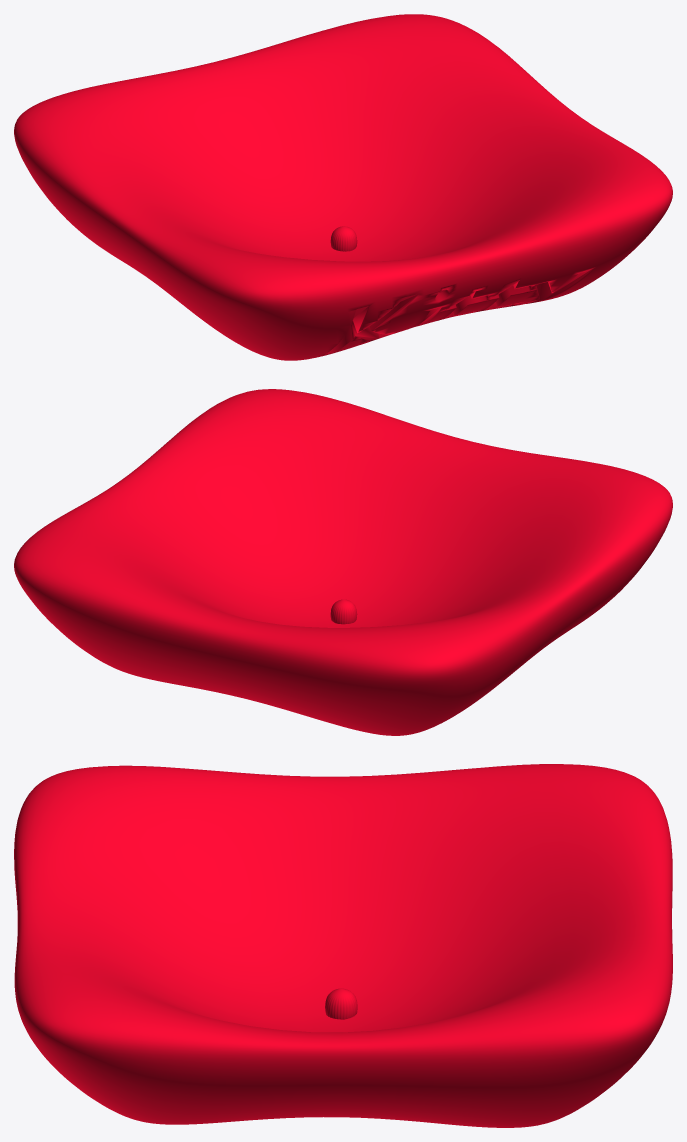
File: bowlfacing up.fbx
The picture shows the model from 3 angles, top to bottom: view 1: azimuth 30°, elevation 25°; view 2: azimuth 150°, elevation 25°; view 3: azimuth 270°, elevation 25°; orthographic projection. The views are drawn at different scales.
Parts seen in each view (by area): view 1: cat bowl, Cylinder; view 2: cat bowl, Cylinder; view 3: cat bowl, Cylinder.
Part boxes in pixels (bbox=[...]): cat bowl: bbox=[14, 14, 672, 360]; Cylinder: bbox=[330, 226, 357, 251]; cat bowl: bbox=[14, 389, 672, 735]; Cylinder: bbox=[330, 599, 357, 624]; cat bowl: bbox=[14, 764, 672, 1127]; Cylinder: bbox=[325, 988, 357, 1019].
Size of the model in its own units: 123 by 123 by 32.97.
